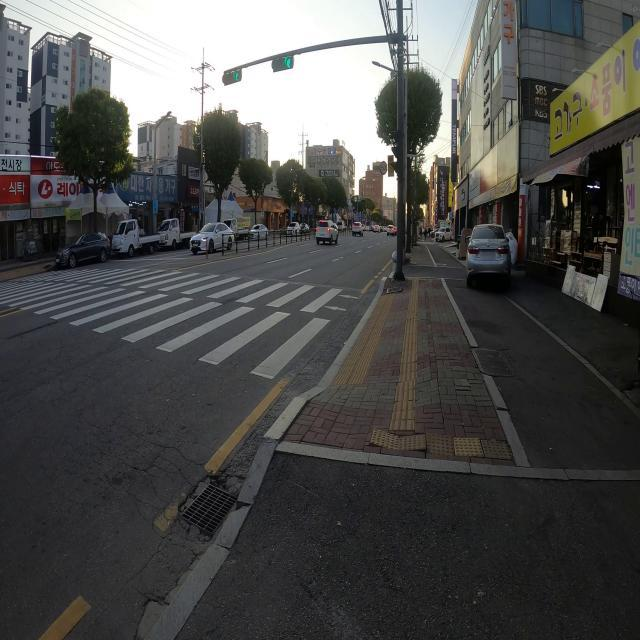crosswalk: (0, 266, 365, 383)
